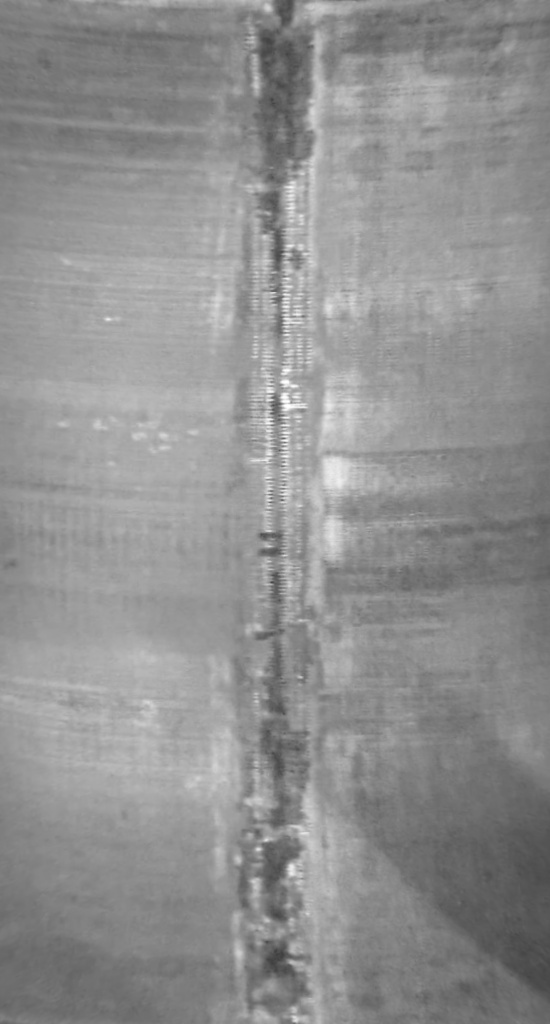splice: (228, 1, 320, 1024)
